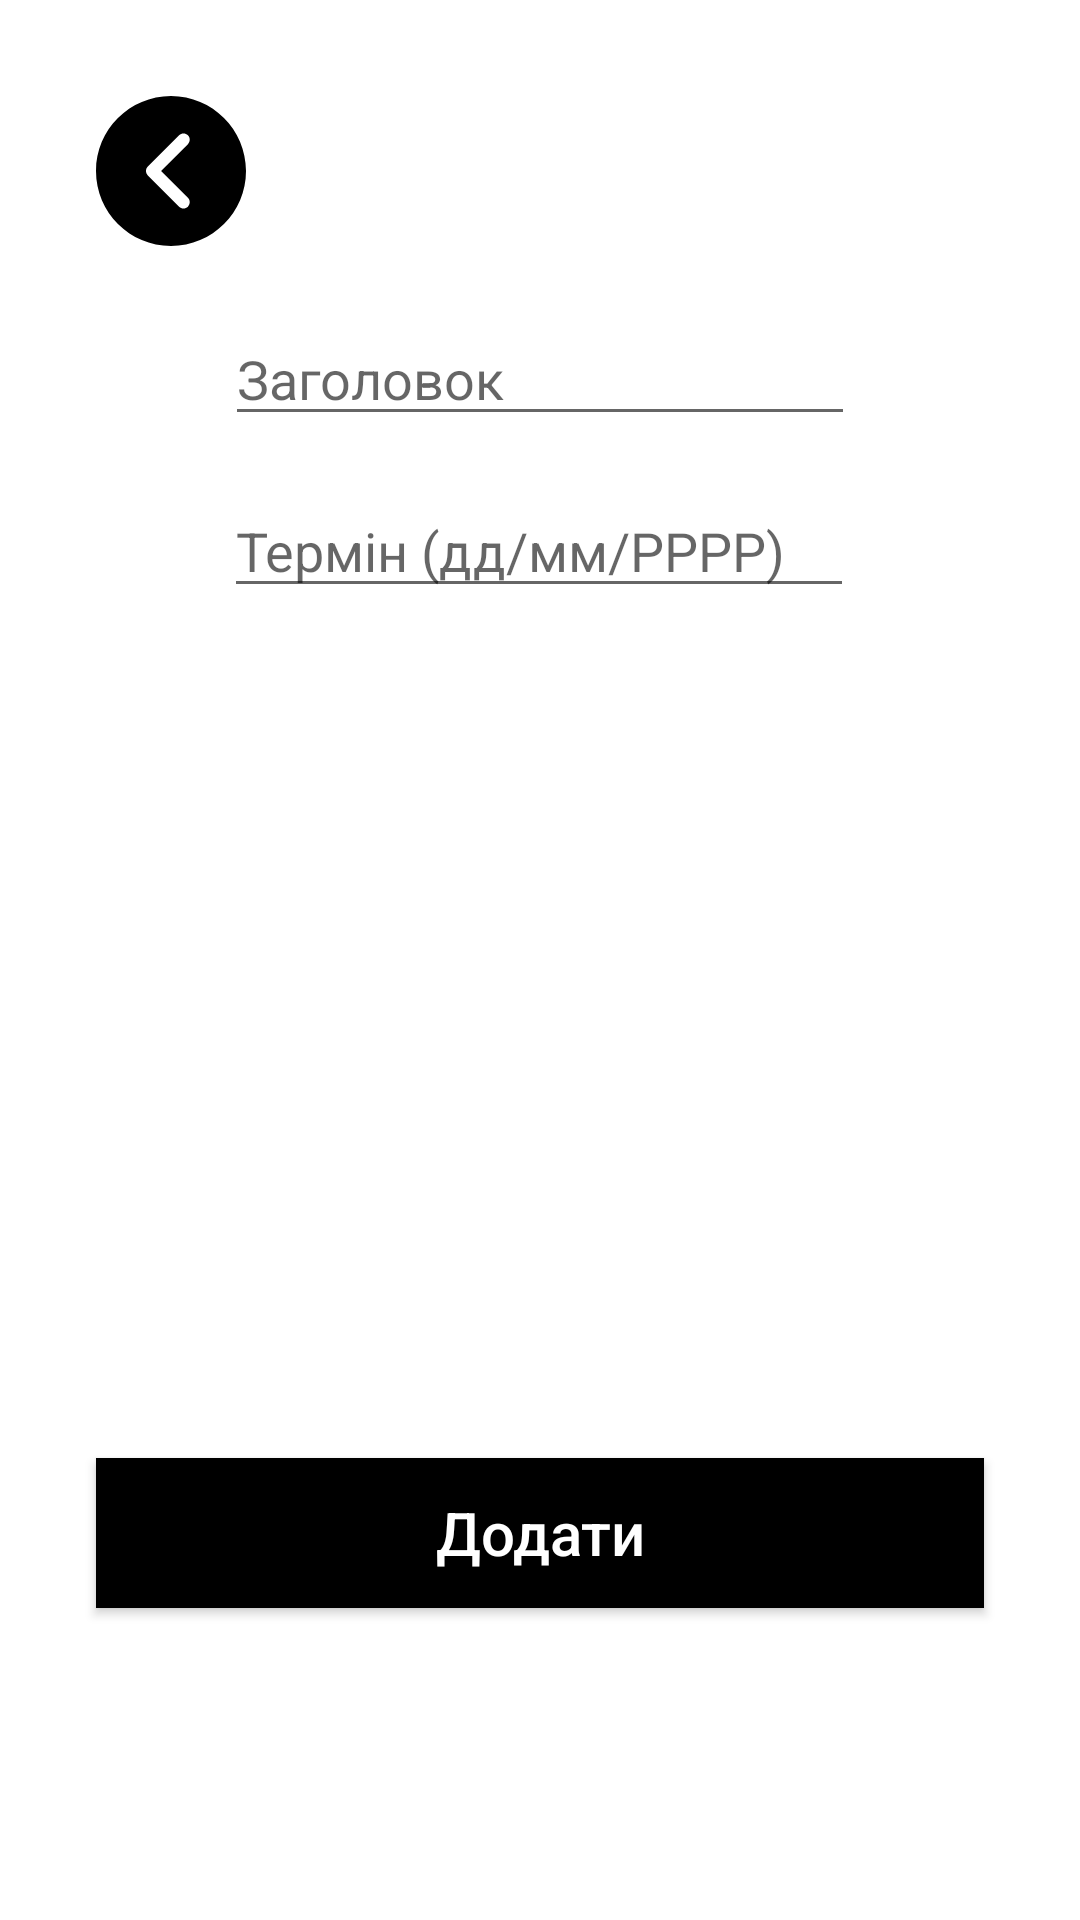

Icon click points for this 1080px x 1920px phone screenshot, format point (x, y):
left arrow: point (171, 171)
